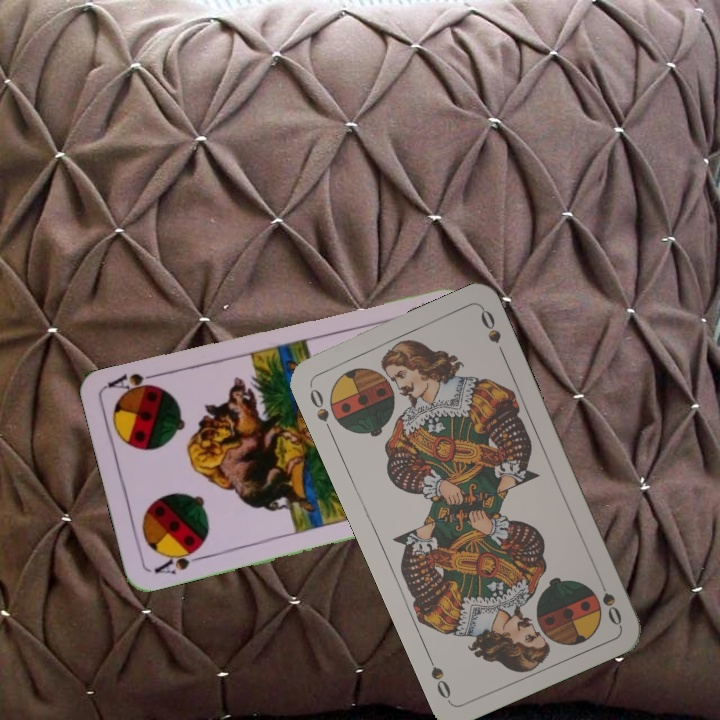SA: (150, 543, 207, 577)
SO: (593, 571, 625, 628), (305, 381, 336, 437)
